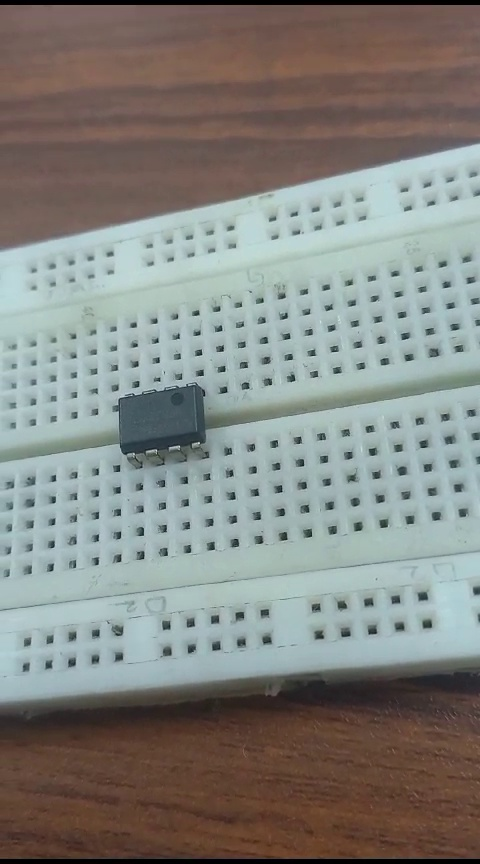IC: (106, 375, 218, 453)
